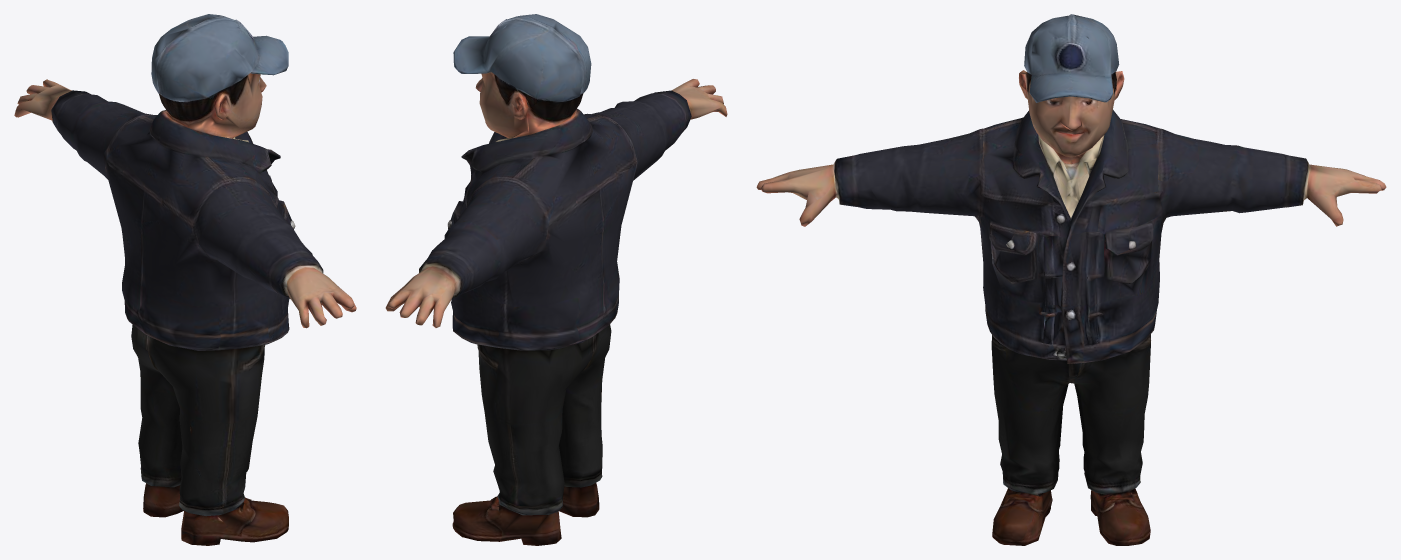
File: majeux.fbx
3 views of the same model, side by side, from view 1: azimuth 30°, elevation 25°; view 2: azimuth 150°, elevation 25°; view 3: azimuth 270°, elevation 25° (orthographic).
Parts seen in each view (by area): view 1: tripo_mesh_c03c8ed2-2d0d-46ee-a043-4de8a7cff4b1; view 2: tripo_mesh_c03c8ed2-2d0d-46ee-a043-4de8a7cff4b1; view 3: tripo_mesh_c03c8ed2-2d0d-46ee-a043-4de8a7cff4b1.
Part boxes in pixels (bbox=[...]): tripo_mesh_c03c8ed2-2d0d-46ee-a043-4de8a7cff4b1: bbox=[14, 14, 356, 545]; tripo_mesh_c03c8ed2-2d0d-46ee-a043-4de8a7cff4b1: bbox=[385, 14, 727, 545]; tripo_mesh_c03c8ed2-2d0d-46ee-a043-4de8a7cff4b1: bbox=[756, 14, 1386, 545].
Size of the model in its own units: 0.533 by 1.76 by 2.
1 material, 1 textured.
